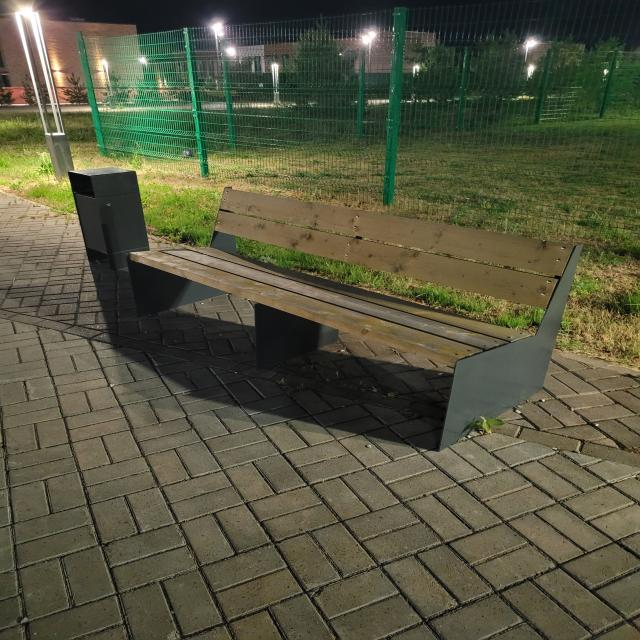Bench: (129, 187, 582, 450)
